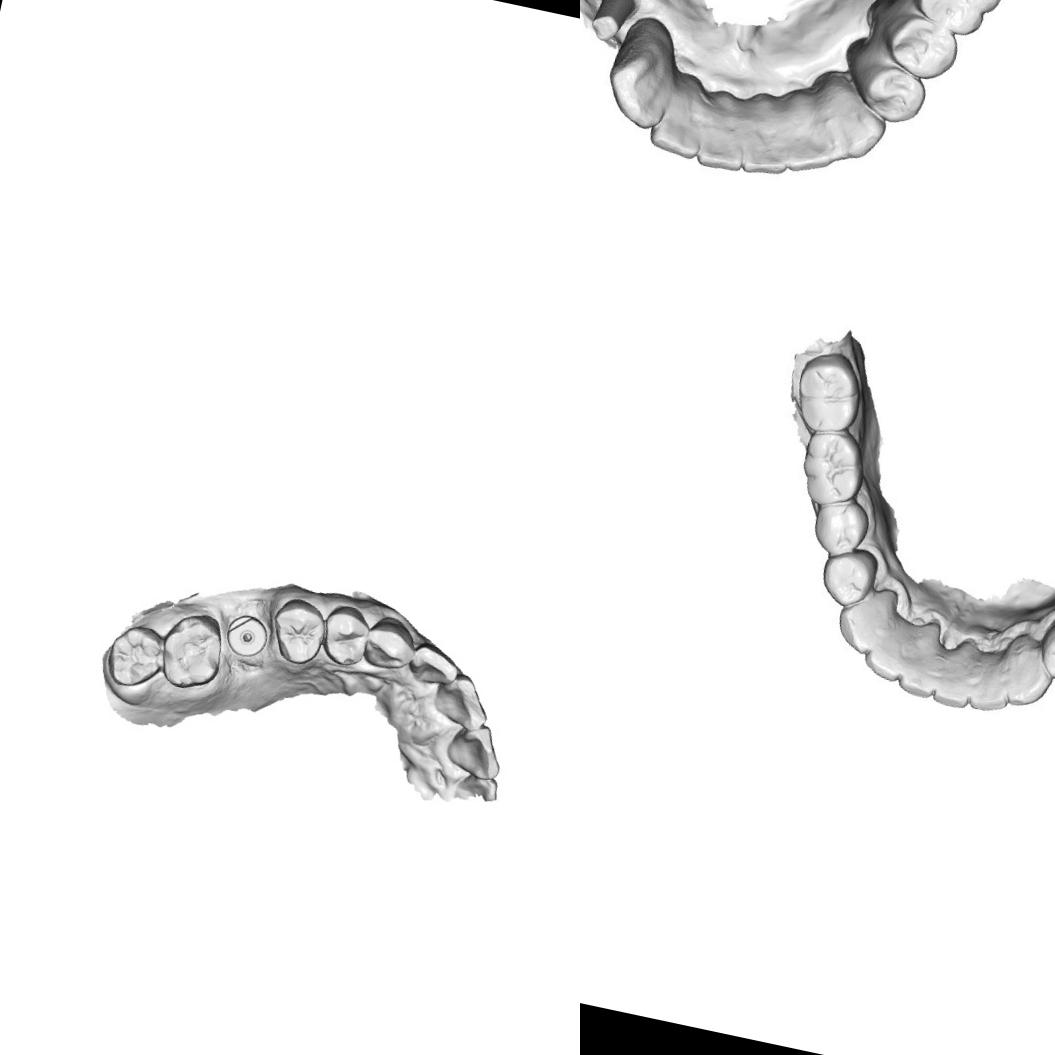abutment: (582, 0, 640, 47)
canine: (603, 12, 688, 130), (808, 73, 891, 167), (830, 584, 900, 662), (999, 638, 1055, 712), (360, 611, 420, 674)
implant: (222, 611, 274, 662)
incisor: (645, 64, 718, 164), (772, 84, 848, 176), (689, 89, 757, 176), (732, 93, 797, 179), (428, 667, 496, 734), (441, 717, 509, 784), (858, 628, 916, 686), (928, 658, 985, 716), (405, 640, 463, 692), (967, 658, 1018, 714), (892, 652, 946, 704)
molar: (789, 347, 873, 439), (793, 425, 874, 515), (155, 605, 231, 695), (100, 618, 170, 694), (911, 0, 1013, 39)
premolar: (838, 34, 934, 130), (871, 0, 964, 80), (266, 594, 332, 670), (814, 541, 882, 614), (807, 495, 876, 562), (317, 601, 375, 671), (1037, 618, 1055, 684)
